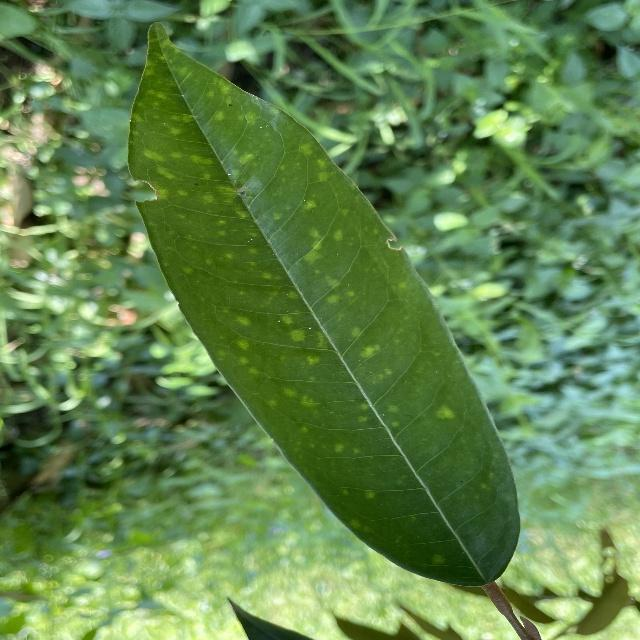Leaf Spot: (121, 17, 527, 595)
